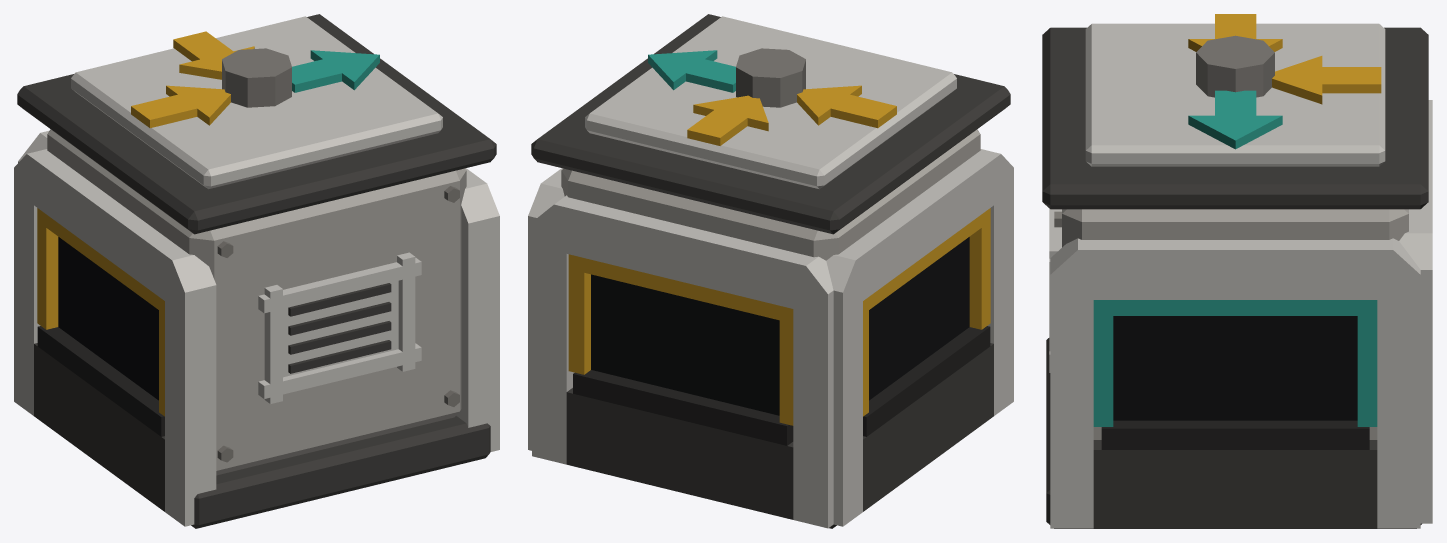
Rendered from merger.fbx.
3 views of the same model, side by side, from view 1: azimuth 30°, elevation 25°; view 2: azimuth 150°, elevation 25°; view 3: azimuth 270°, elevation 25° (orthographic). The views are drawn at different scales.
Parts seen in each view (by area): view 1: merger; view 2: merger; view 3: merger.
Boxes of the visible parts, box(x1,y1,x2,y2) form: merger: box(14, 14, 499, 528); merger: box(528, 14, 1013, 528); merger: box(1042, 14, 1432, 528).
Bounding box in the file's own units: 3 × 3.36 × 2.97.
